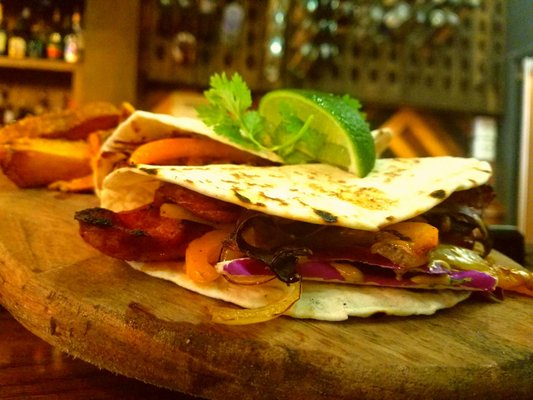soup: (74, 147, 518, 323)
